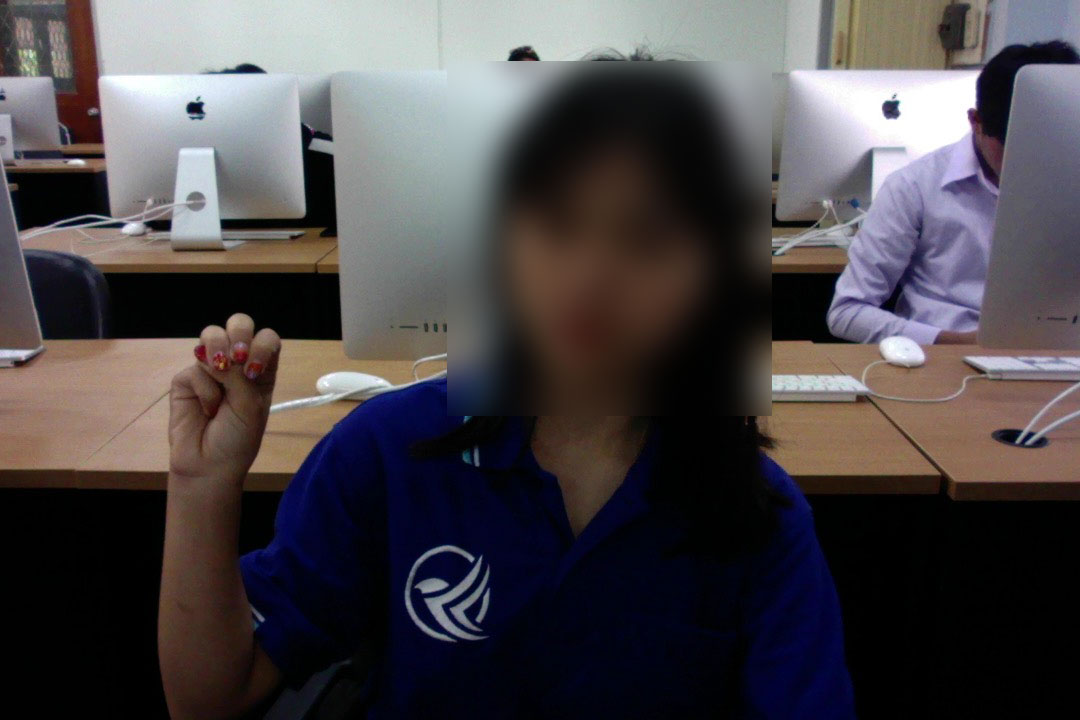mor: (160, 297, 286, 500)
